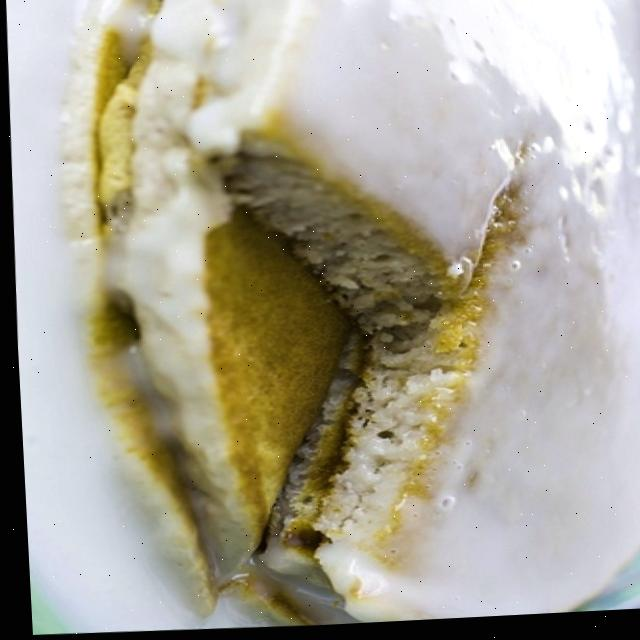蛋糕甜品: (68, 25, 640, 617)
